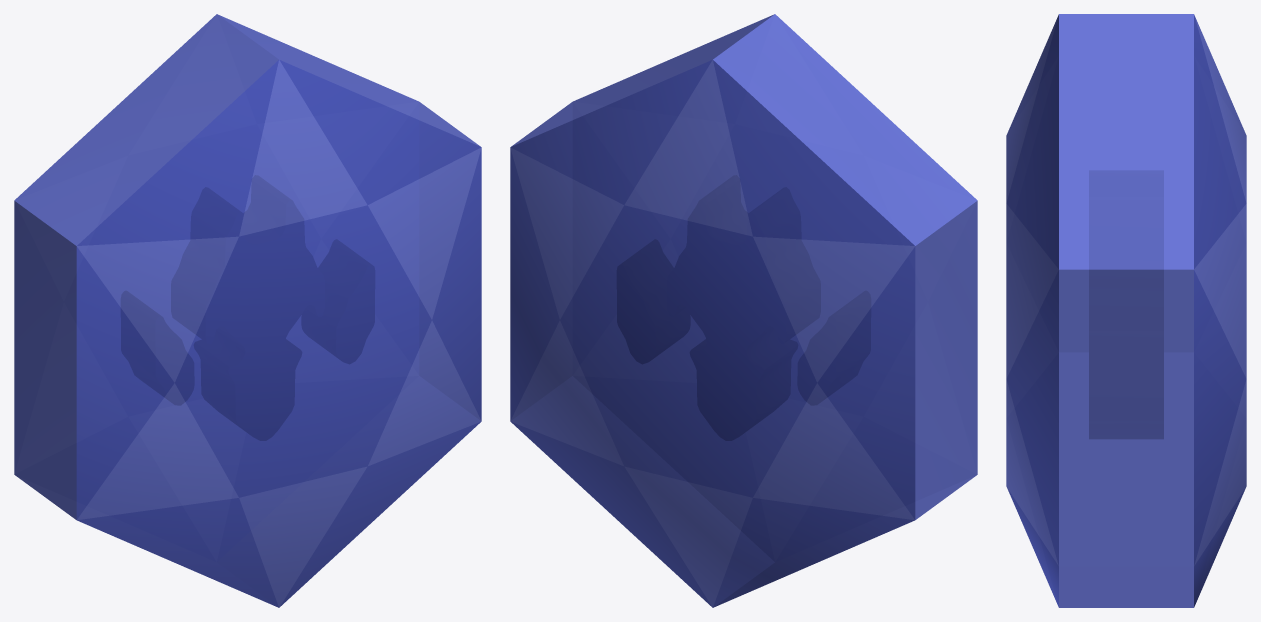
The picture shows the model from 3 angles, left to right: view 1: azimuth 30°, elevation 25°; view 2: azimuth 150°, elevation 25°; view 3: azimuth 270°, elevation 25°; orthographic projection. The views are drawn at different scales.
Parts seen in each view (by area): view 1: body; view 2: body; view 3: body.
Part boxes in pixels (box(x1,y1,x2,y2)): body: box(14, 14, 481, 607); body: box(510, 14, 977, 607); body: box(1006, 14, 1246, 607).
Bounding box in the file's own units: 0.1933 × 0.25 × 0.0916.
2 materials, 2 textured.
